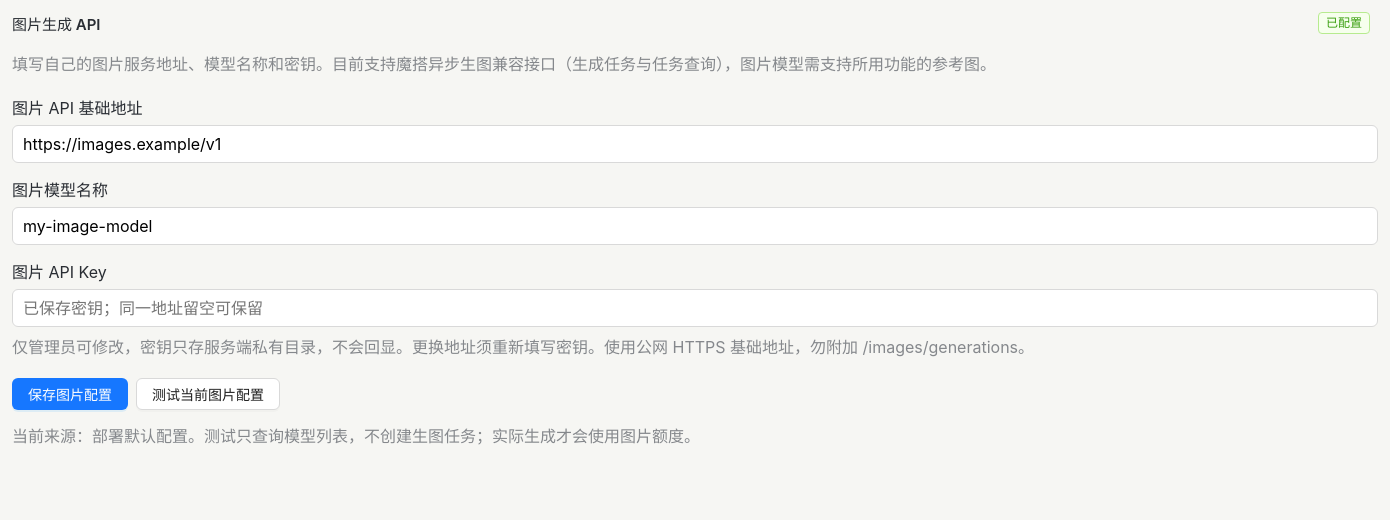
Scenario: 接口未列出图片模型时提示未能确认，不显示生图成功
Expected: the field showing "https://images.example/v1" is shown, left=12, top=125, right=1378, bottom=163
Click the button "测试当前图片配置". click: point(208, 394)
box: left=136, top=378, right=280, bottom=410
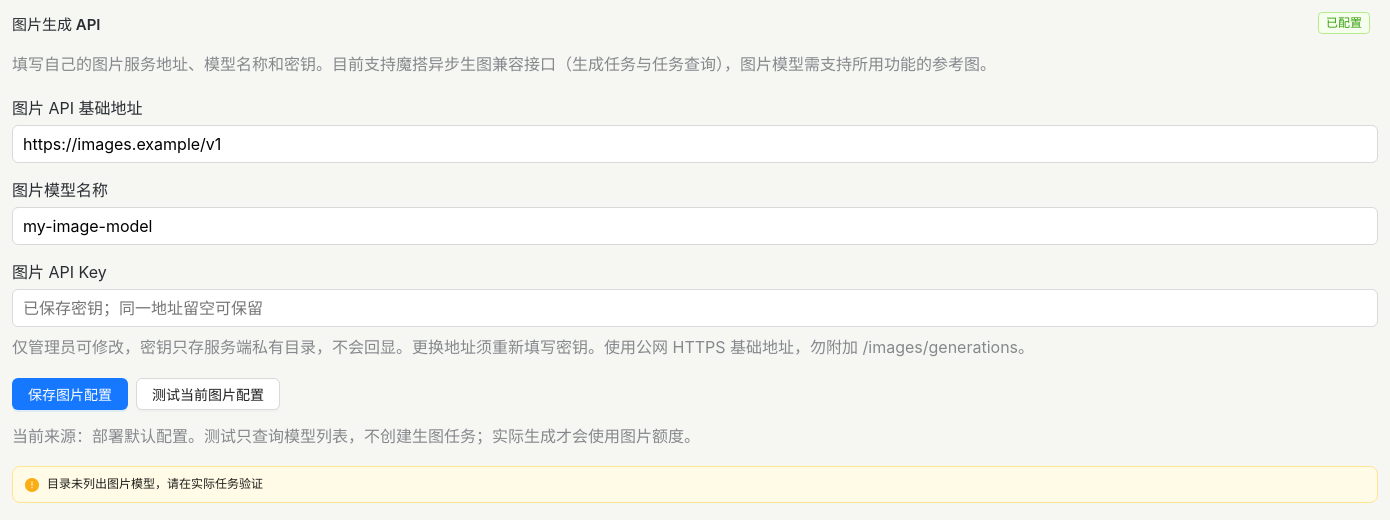
Expected: the text "目录未列出图片模型，请在实际任务验证" is shown, left=47, top=476, right=263, bottom=491
